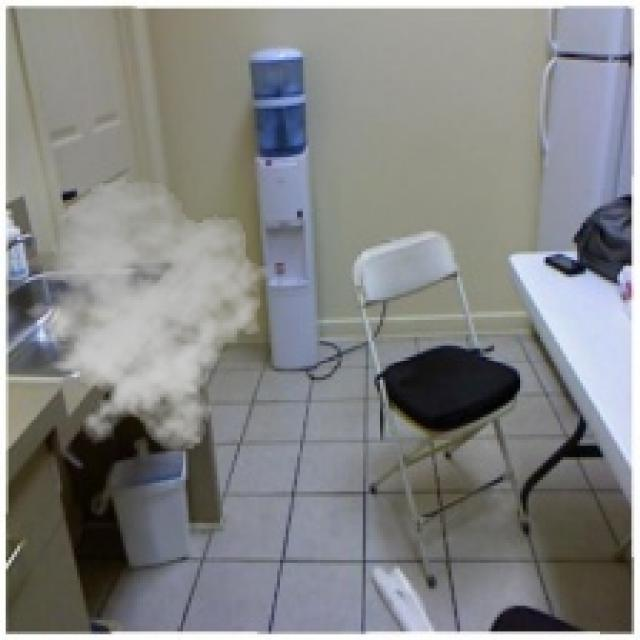Smoke: (11, 177, 278, 454)
